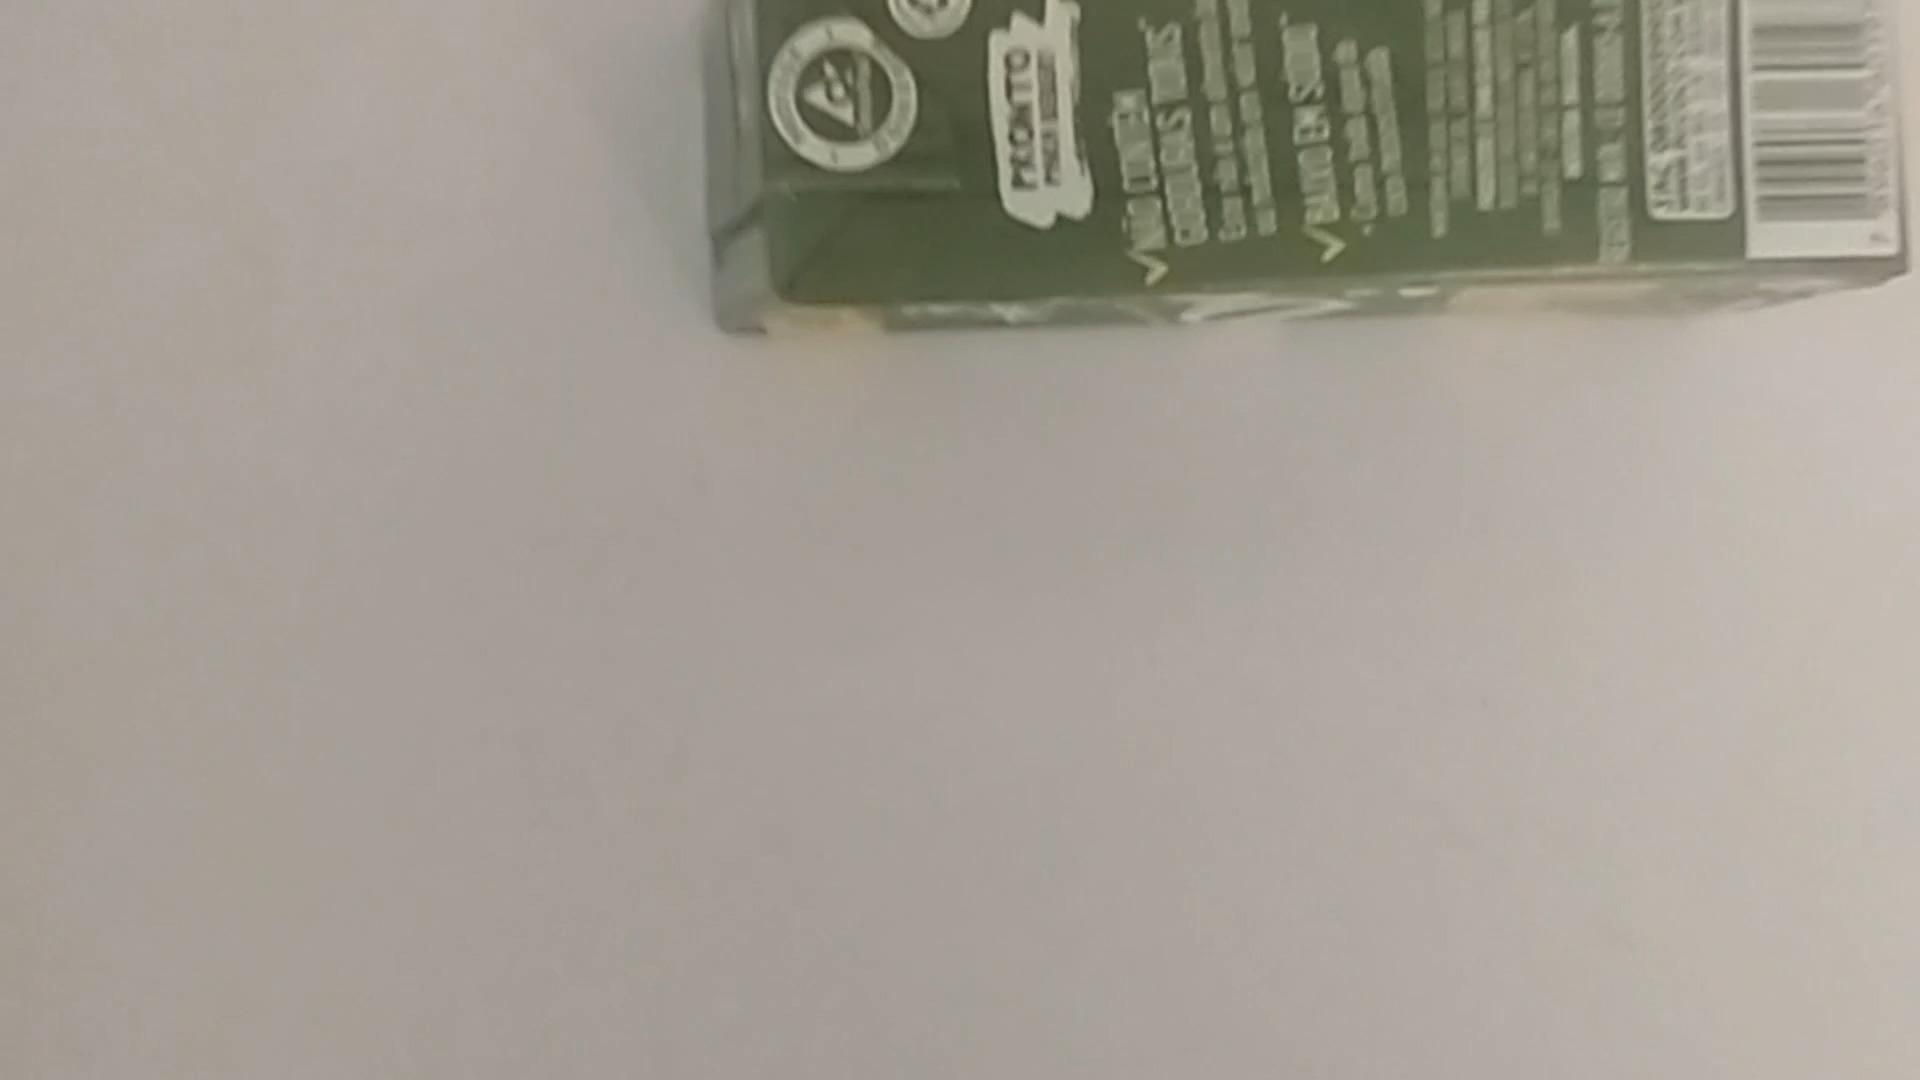coco: (698, 0, 1920, 348)
